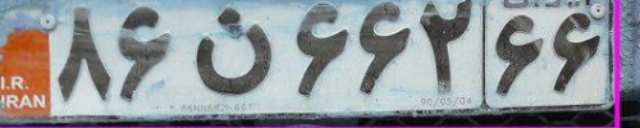2: (420, 0, 474, 94)
6: (116, 5, 178, 102), (357, 0, 413, 95), (294, 1, 347, 96), (551, 10, 602, 93), (495, 14, 543, 95)
8: (55, 4, 113, 103)
non: (195, 6, 273, 96)
